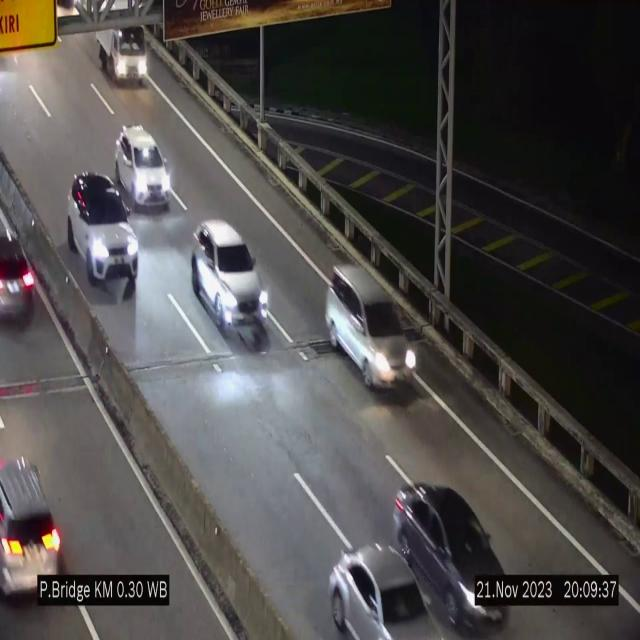Car: (388, 473, 514, 632), (0, 438, 72, 632), (325, 265, 418, 388), (329, 545, 437, 638), (191, 221, 269, 344), (66, 173, 138, 282), (0, 226, 44, 336), (115, 125, 171, 209)
Truck: (92, 0, 150, 91)
